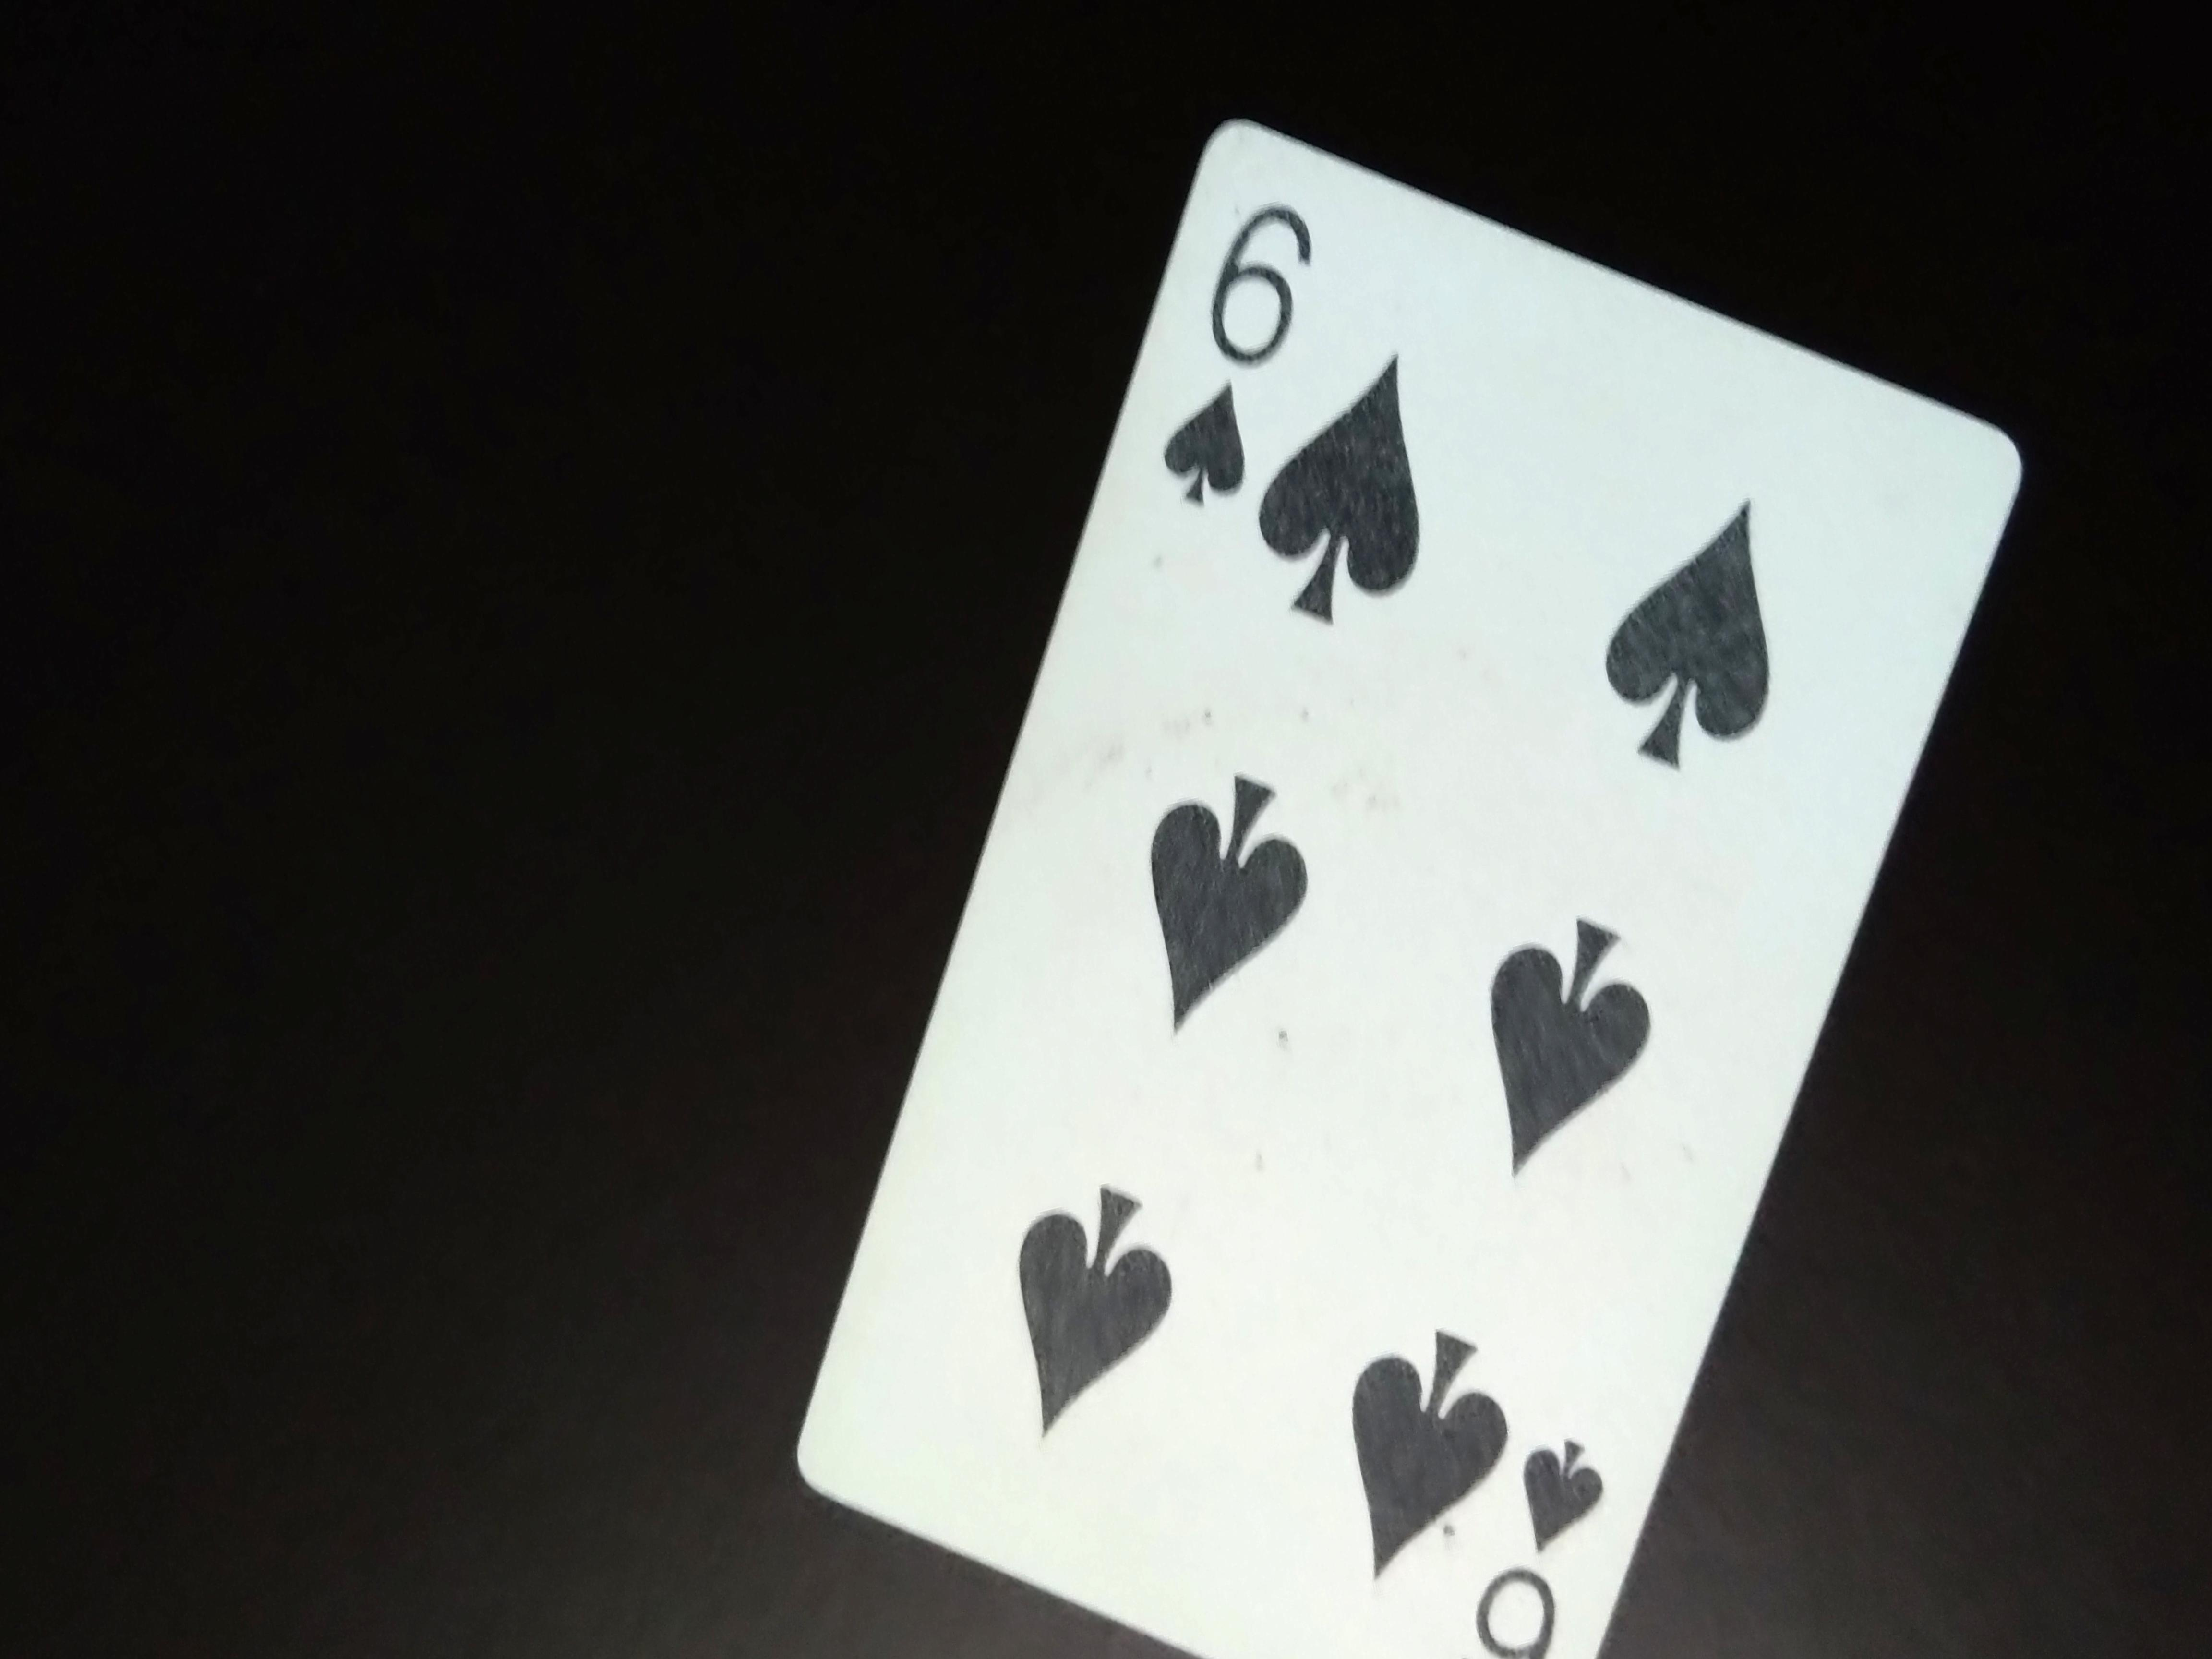6S: (1143, 167, 1331, 545)
